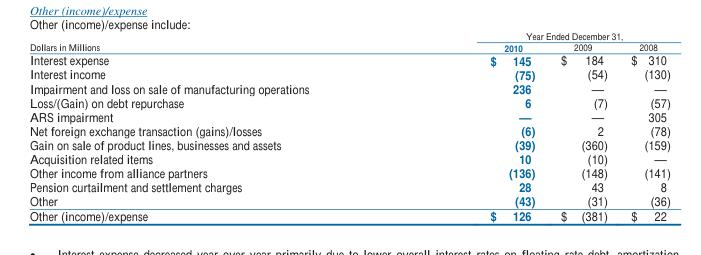table: (28, 29, 669, 223)
table column: (28, 29, 399, 223), (399, 29, 547, 223), (547, 29, 618, 223), (618, 29, 669, 223)
table column header: (28, 29, 669, 52)
table row: (28, 207, 669, 223), (28, 94, 669, 109), (28, 52, 669, 66), (28, 66, 669, 80), (28, 80, 669, 94), (28, 109, 669, 123), (28, 123, 669, 137), (28, 137, 669, 151), (28, 151, 669, 165), (28, 165, 669, 179), (28, 179, 669, 193), (28, 193, 669, 207), (28, 29, 669, 41), (28, 41, 669, 52)
table spanning cell: (28, 29, 399, 52), (399, 29, 669, 41)
